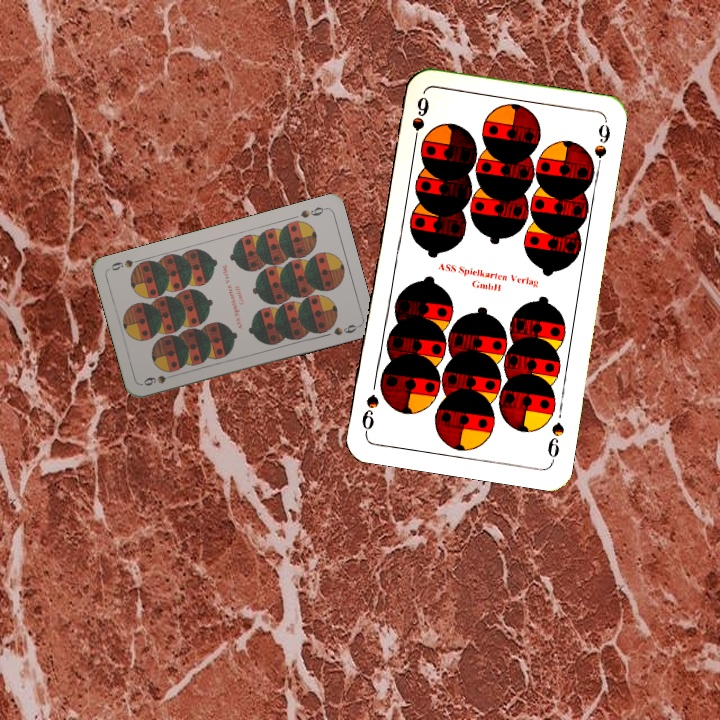S9: (407, 92, 432, 150), (543, 418, 567, 465), (140, 370, 179, 388), (296, 203, 328, 221)
